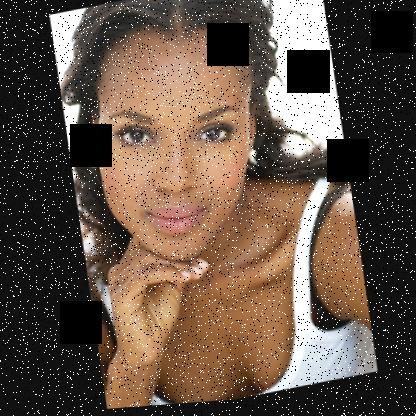Female: (69, 5, 277, 276)
